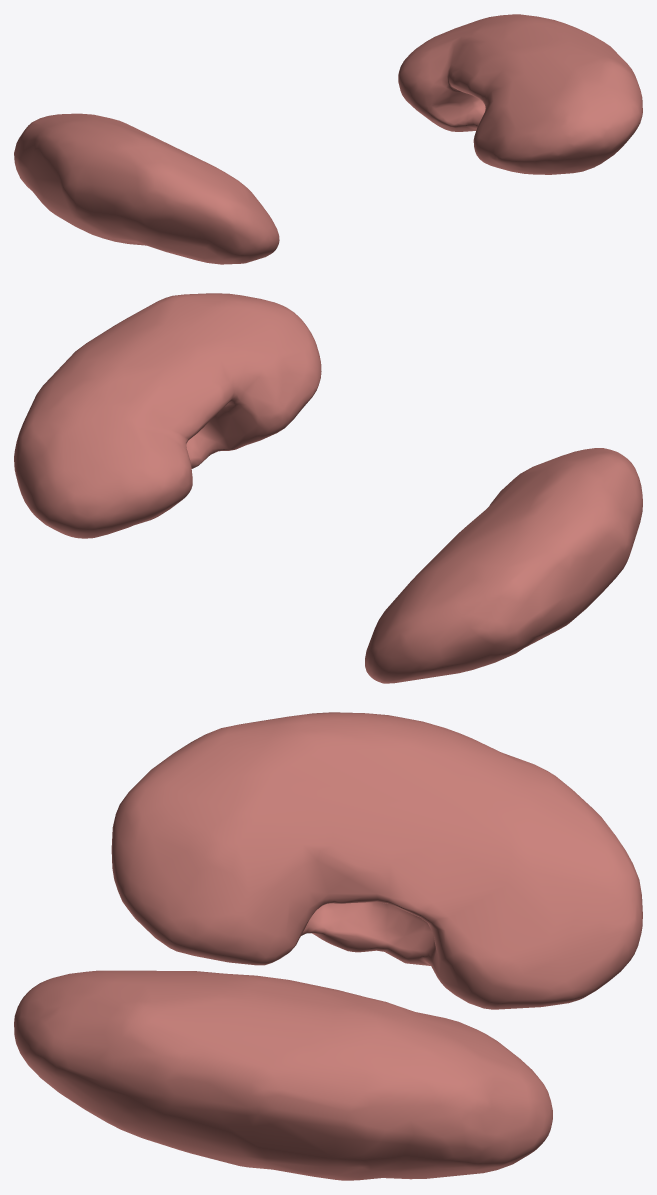
The model's file is kidneys.glb.
The picture shows the model from 3 angles, top to bottom: view 1: azimuth 30°, elevation 25°; view 2: azimuth 150°, elevation 25°; view 3: azimuth 270°, elevation 25°; orthographic projection. The views are drawn at different scales.
Parts seen in each view (by area): view 1: left kidney, right kidney; view 2: left kidney, right kidney; view 3: right kidney, left kidney.
Boxes of the visible parts, box(x1,y1,x2,y2) form: left kidney: box(398, 14, 642, 174); right kidney: box(14, 113, 279, 264); left kidney: box(14, 293, 321, 538); right kidney: box(365, 448, 642, 683); right kidney: box(111, 712, 642, 1009); left kidney: box(14, 970, 552, 1180).
Size of the model in its own units: 178 by 52.25 by 124.
